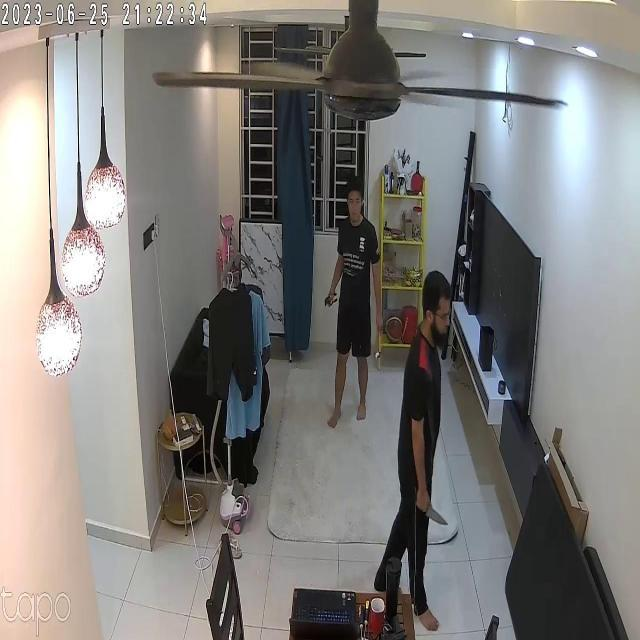Knife: (414, 486, 457, 536)
